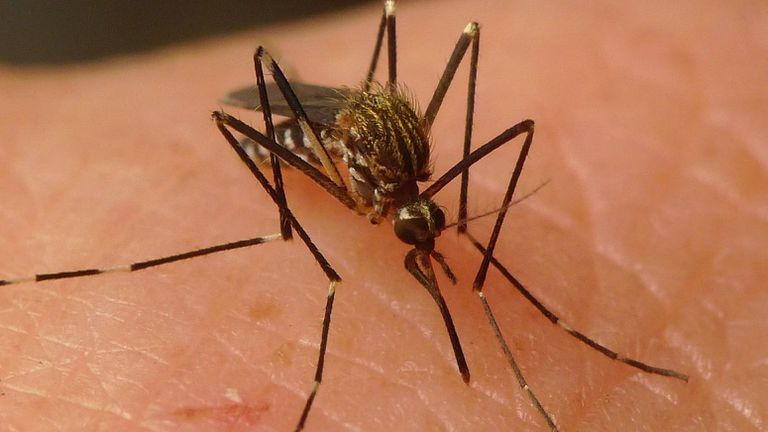dengue_mosquito: (75, 1, 552, 403)
